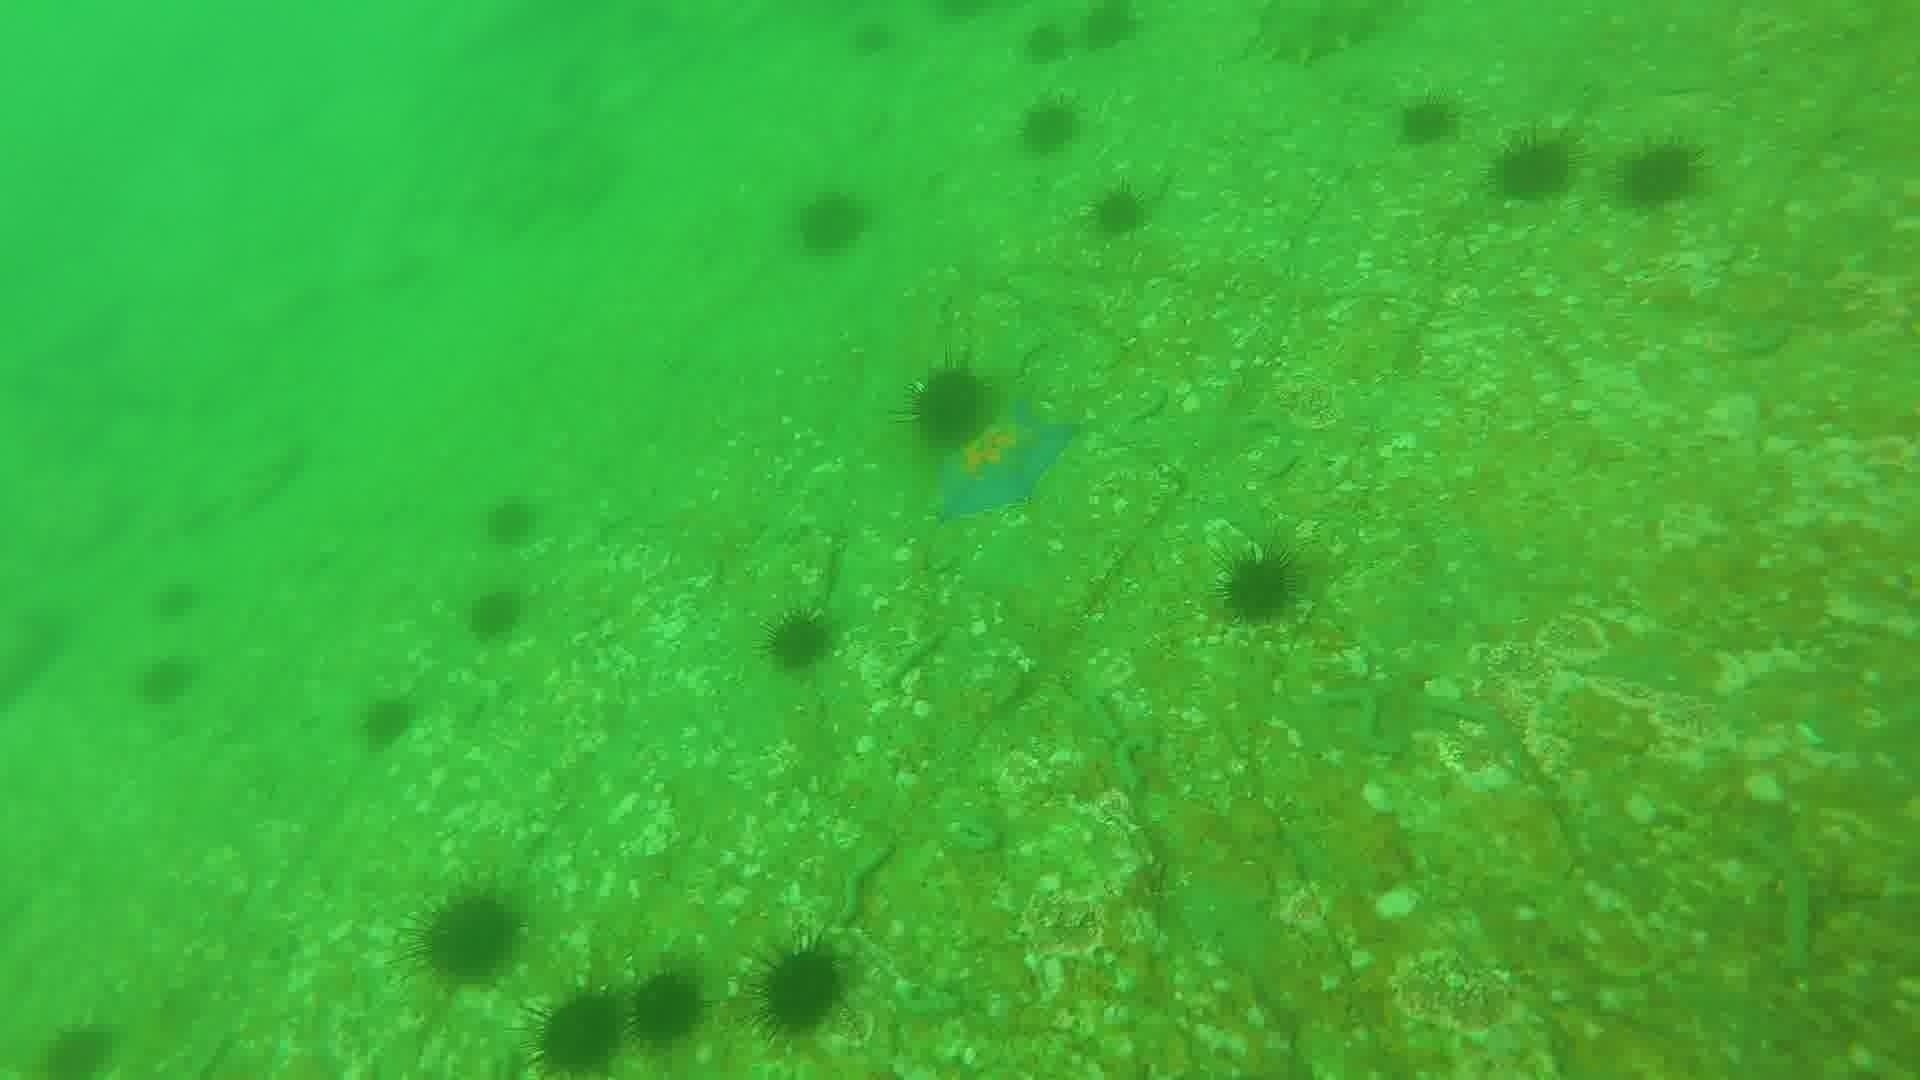echinus: (405, 885, 527, 992), (750, 938, 855, 1040), (526, 986, 630, 1073), (902, 361, 998, 454), (1215, 545, 1307, 630), (1487, 129, 1580, 208), (1615, 136, 1706, 214), (626, 967, 709, 1048), (790, 187, 873, 258), (760, 605, 840, 676), (37, 1018, 121, 1080), (1013, 94, 1085, 160), (1391, 91, 1462, 152), (353, 690, 421, 753), (1084, 181, 1153, 243), (462, 585, 529, 645), (133, 651, 200, 709), (1073, 3, 1146, 55), (479, 492, 542, 551), (1017, 18, 1075, 70), (148, 575, 204, 625), (844, 15, 899, 62)
holothurian: (1242, 3, 1396, 73)
starfish: (928, 398, 1081, 524)
